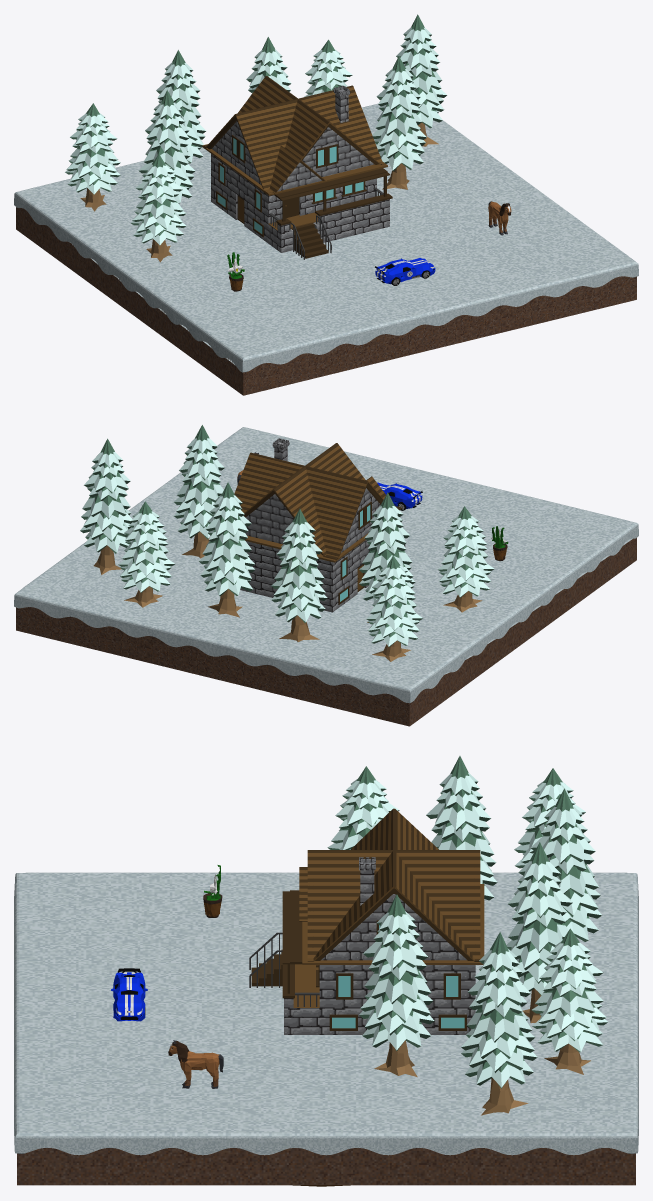
3 renders of one model, top to bottom at view 1: azimuth 30°, elevation 25°; view 2: azimuth 150°, elevation 25°; view 3: azimuth 270°, elevation 25°, orthographic. The views are drawn at different scales.
Visible parts, largest first — view 1: Cube.003, Cube.586, VEHICLES_RACING_CAR, ANIMAL_CABALLO; view 2: Cube.003, Cube.586, VEHICLES_RACING_CAR; view 3: Cube.003, Cube.586, VEHICLES_RACING_CAR, ANIMAL_CABALLO, OBJRANDOM_MONJA BLANCA.
Boxes of the visible parts, box(x1,y1,x2,y2) form: Cube.003: box(14, 14, 638, 395); Cube.586: box(202, 76, 392, 259); VEHICLES_RACING_CAR: box(375, 258, 435, 285); ANIMAL_CABALLO: box(488, 201, 511, 235); Cube.003: box(14, 425, 638, 726); Cube.586: box(234, 438, 405, 612); VEHICLES_RACING_CAR: box(377, 482, 422, 510); Cube.003: box(14, 756, 638, 1185); Cube.586: box(249, 808, 484, 1034); VEHICLES_RACING_CAR: box(111, 968, 147, 1021); ANIMAL_CABALLO: box(168, 1040, 223, 1088); OBJRANDOM_MONJA BLANCA: box(203, 865, 222, 917).
Bounding box in the file's own units: 4040 × 1758 × 4040.
Materials: 35 (4 with a texture image).
